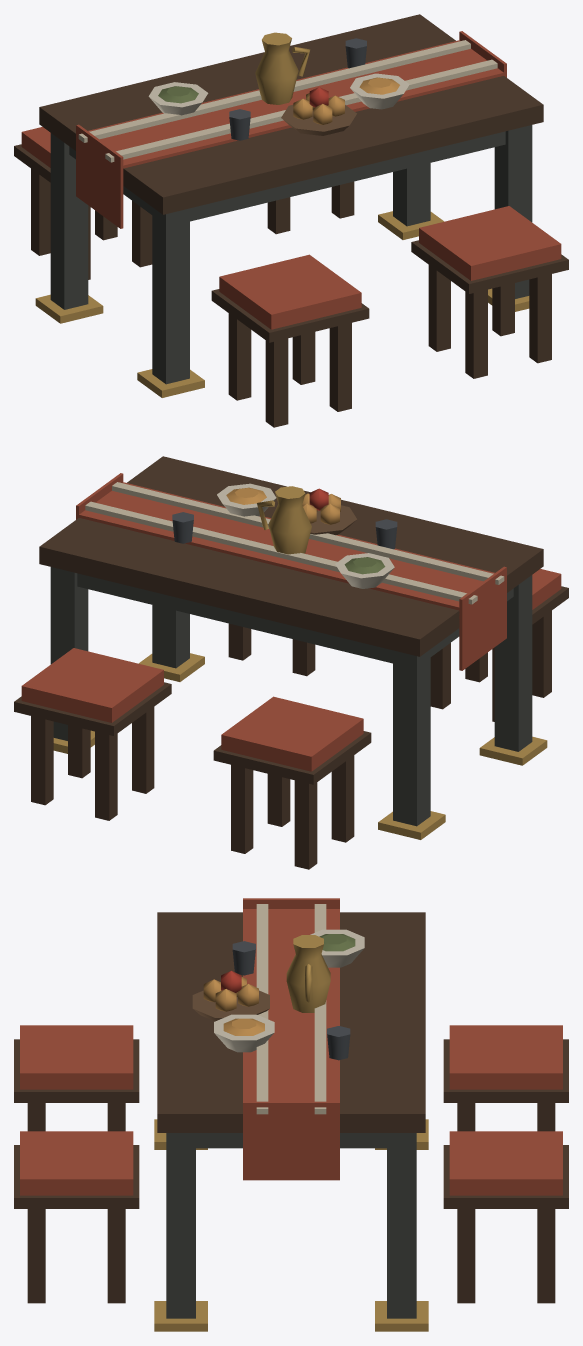
The model's file is diner_set_4.glb.
3 renders of one model, top to bottom at view 1: azimuth 30°, elevation 25°; view 2: azimuth 150°, elevation 25°; view 3: azimuth 270°, elevation 25°, orthographic. The views are drawn at different scales.
Parts seen in each view (by area): view 1: diner_set_4; view 2: diner_set_4; view 3: diner_set_4.
Boxes of the visible parts, x1=… form: diner_set_4: x1=14, y1=14, x2=568, y2=427; diner_set_4: x1=14, y1=456, x2=568, y2=869; diner_set_4: x1=14, y1=898, x2=568, y2=1331.
Bounding box in the file's own units: 1.65 × 1.05 × 1.86.
